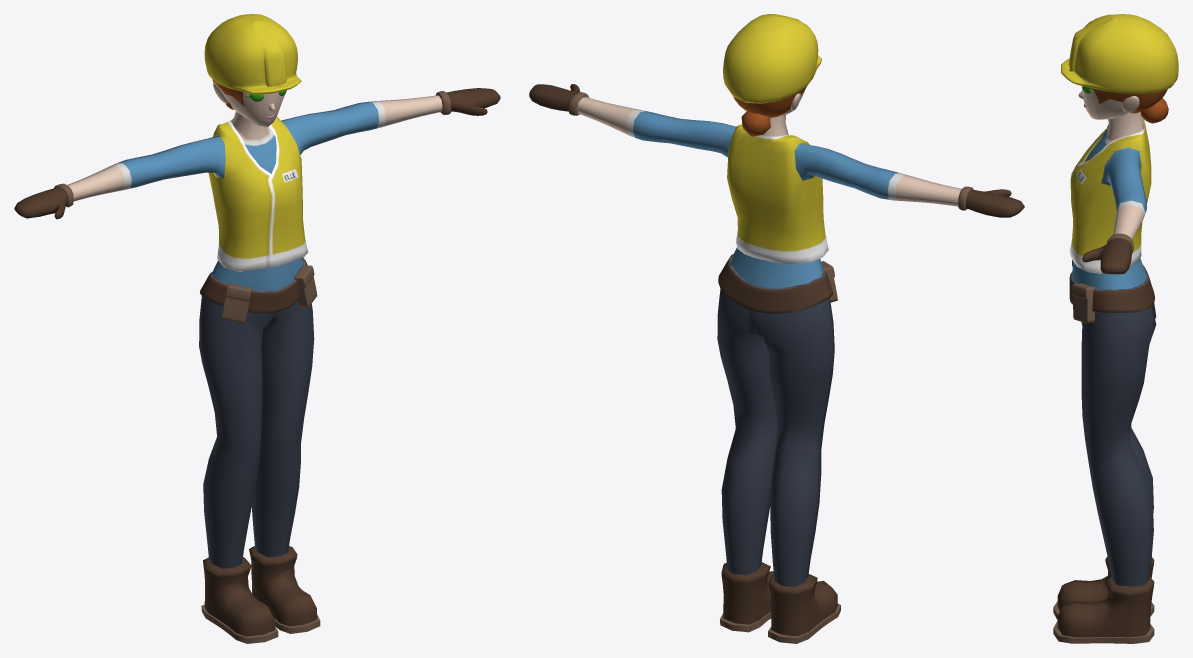
File: elleModel.fbx
3 renders of one model, left to right at view 1: azimuth 30°, elevation 25°; view 2: azimuth 150°, elevation 25°; view 3: azimuth 270°, elevation 25°, orthographic.
Parts seen in each view (by area): view 1: Body, Vest, Boots, Hat, Gloves, Belt, Pockets, Head; view 2: Body, Vest, Hat, Boots, Belt, Gloves, Base; view 3: Body, Hat, Boots, Vest, Belt, Gloves, Head, Pockets, Base, Bun, Ears.
Boxes of the visible parts, x1,y1,x2,y2 form: Body: (67,95,442,568); Vest: (208,116,308,271); Boots: (201,546,320,643); Hat: (204,14,301,94); Gloves: (14,88,500,219); Belt: (200,257,307,313); Pockets: (222,265,317,323); Head: (225,92,285,126); Body: (577,97,961,586); Vest: (727,124,828,263); Hat: (723,14,821,103); Boots: (720,562,840,643); Belt: (718,254,832,313); Gloves: (529,84,1024,217); Base: (733,87,806,117); Body: (1072,112,1156,586); Hat: (1061,14,1178,94); Boots: (1053,556,1154,643); Vest: (1069,119,1151,273); Belt: (1069,264,1154,312); Gloves: (1082,233,1133,274); Head: (1081,86,1128,119); Pockets: (1072,260,1094,323); Base: (1093,88,1167,113); Bun: (1140,98,1168,123); Ears: (1122,96,1139,112).
Size of the model in its own units: 127 by 151 by 28.13.
